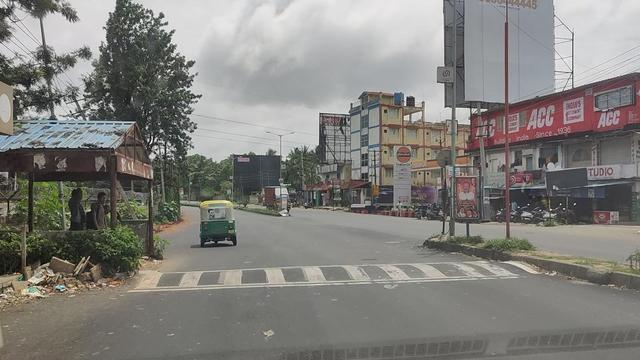LMV: (201, 202, 238, 244)
SpeedBump: (149, 261, 531, 290)
